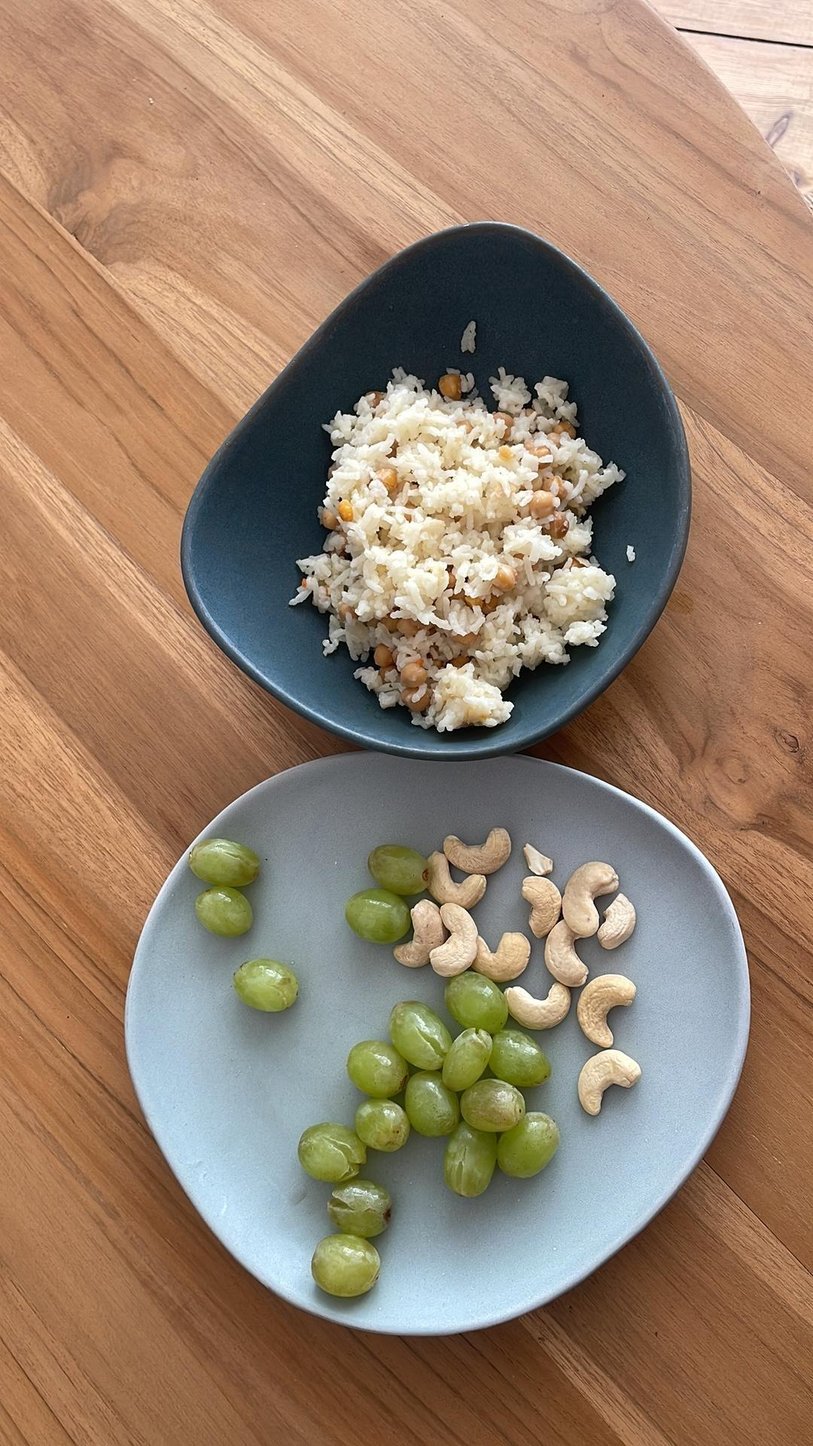grape: (310, 1235, 383, 1300), (481, 1019, 547, 1088), (294, 1121, 365, 1185), (226, 958, 304, 1015), (500, 1113, 559, 1188), (448, 1119, 501, 1198), (391, 998, 449, 1070), (405, 1066, 461, 1140), (343, 888, 412, 948), (447, 967, 507, 1034), (185, 837, 265, 887), (346, 1037, 410, 1098), (327, 1181, 394, 1239), (438, 1026, 491, 1094), (363, 842, 432, 893), (192, 882, 252, 939), (462, 1079, 526, 1132), (351, 1097, 409, 1150)
